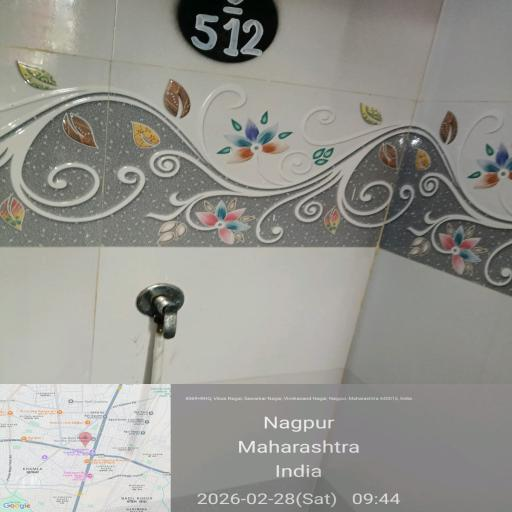clean_floor: (40, 24, 457, 478)
